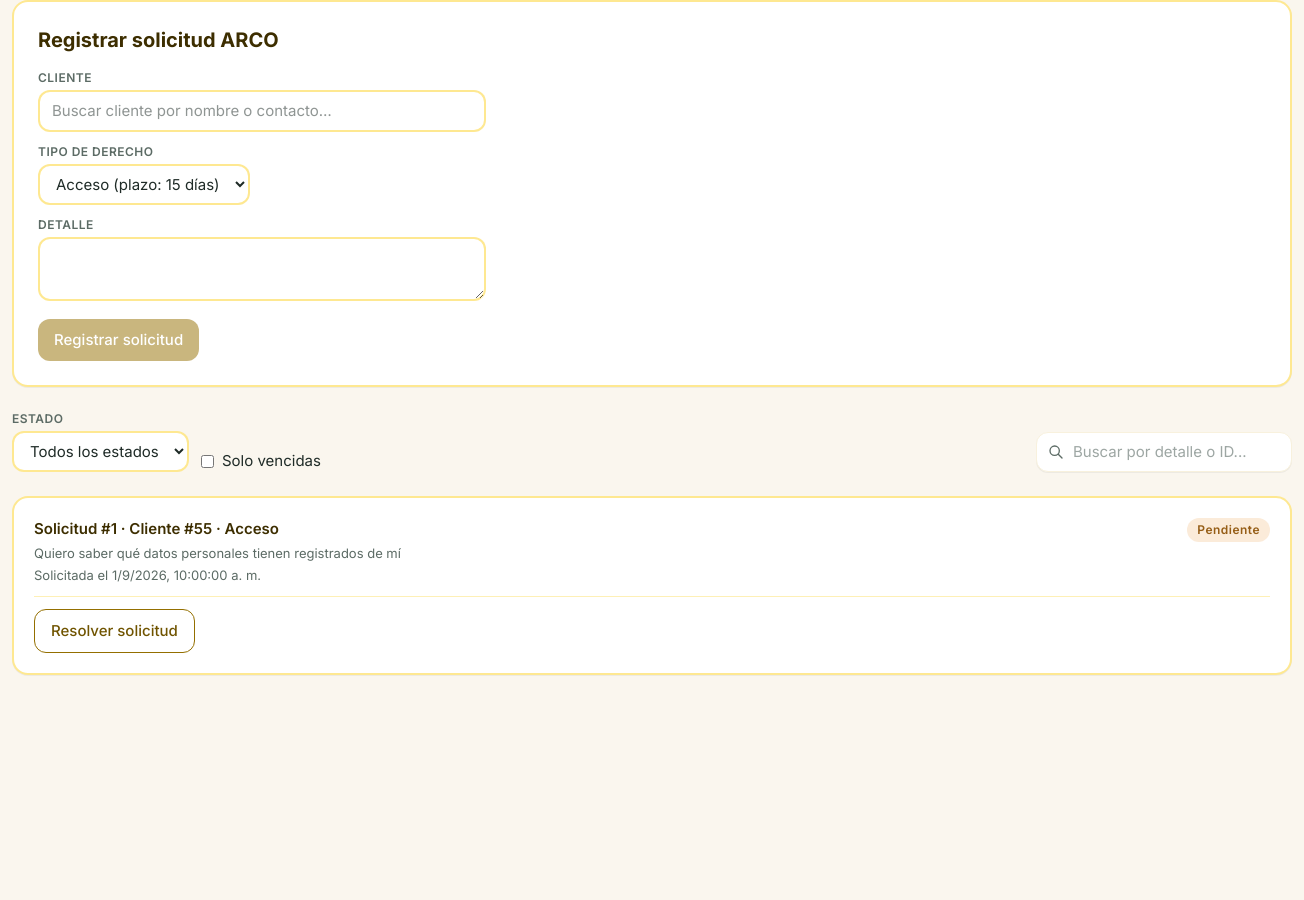
SolicitudesArco › muestra el mensaje real del backend si falla la resolución
The width and height of the screenshot is (1304, 900).
Check: the text "Quiero saber qué datos personales tienen registrados de mí" is shown, box [34, 544, 401, 562]
Click the button "Resolver solicitud": (114, 631) [34, 609, 195, 653]
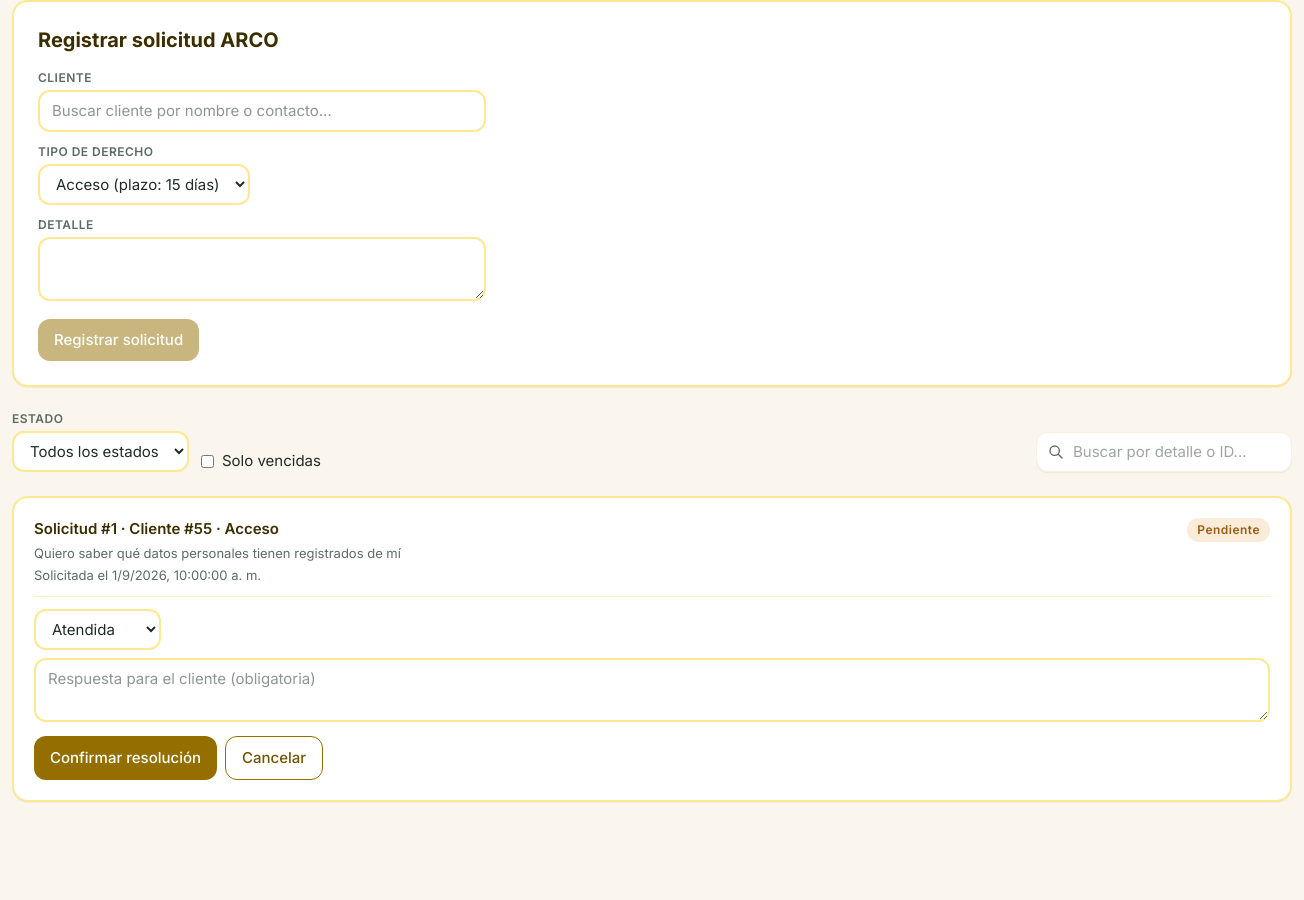
In the text box with placeholder "Respuesta para el cliente (obligatoria)": (652, 690) [34, 658, 1270, 722], type "x"
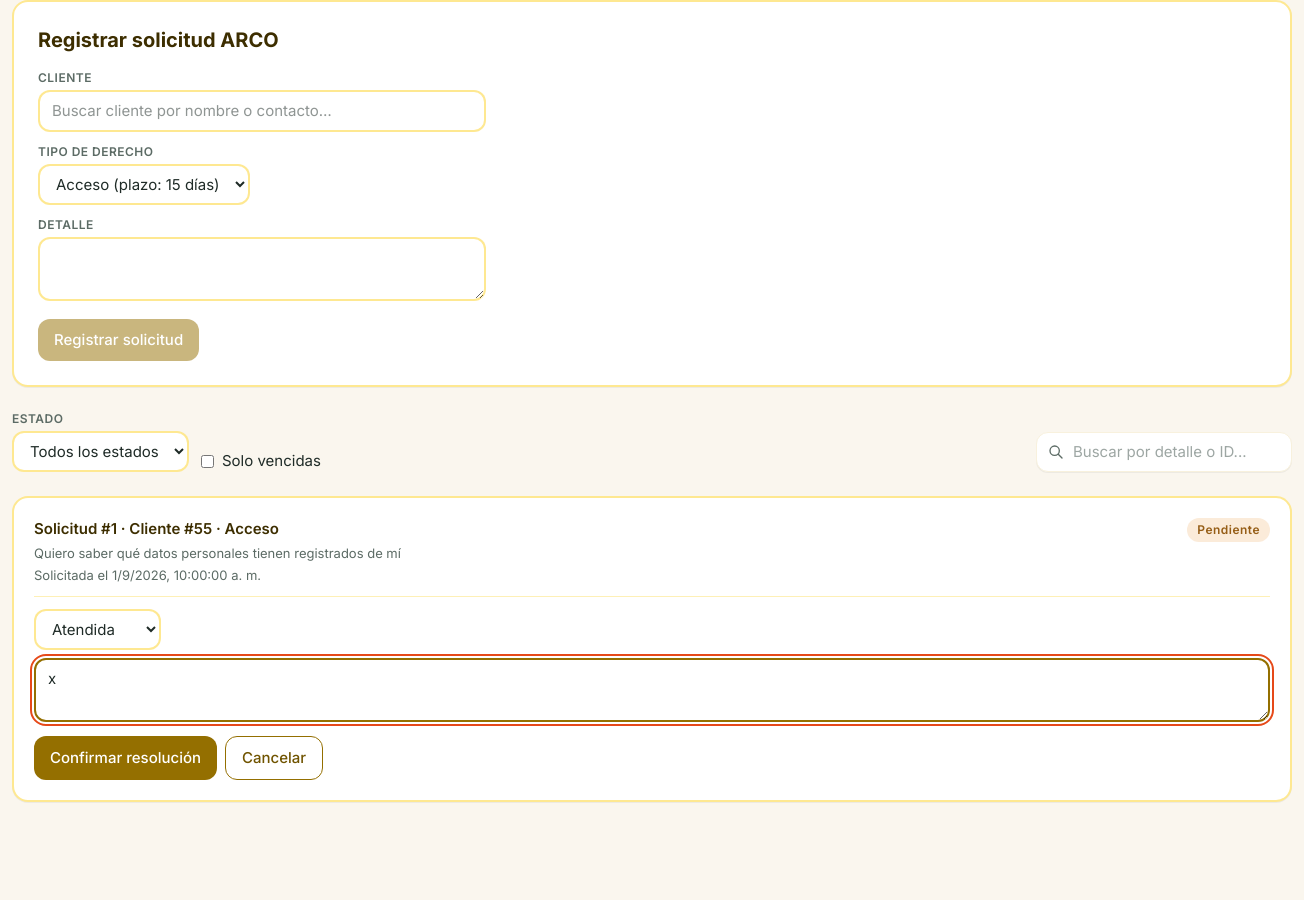
Click the button "Confirmar resolución": (126, 758) [34, 736, 217, 780]
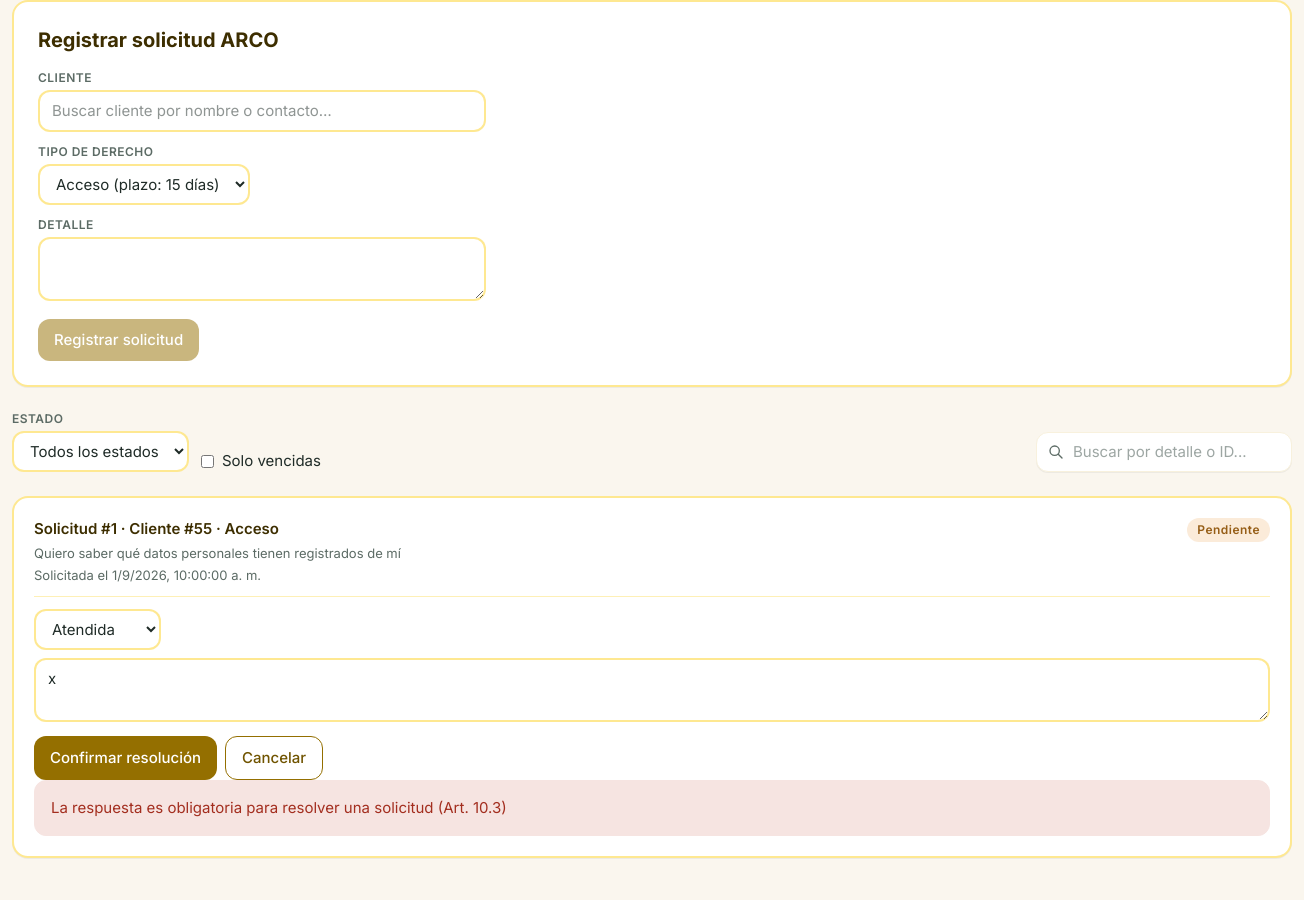
Check: the text "obligatoria para resolver" is shown, box [51, 798, 507, 817]
